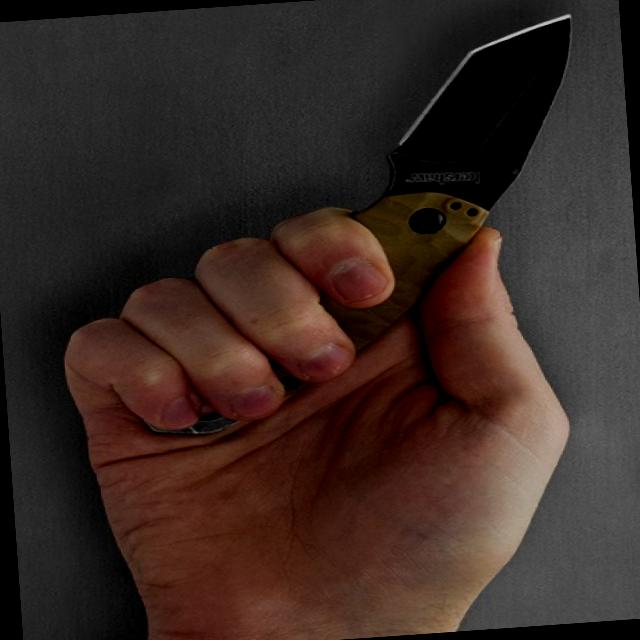knife: (197, 1, 620, 422)
